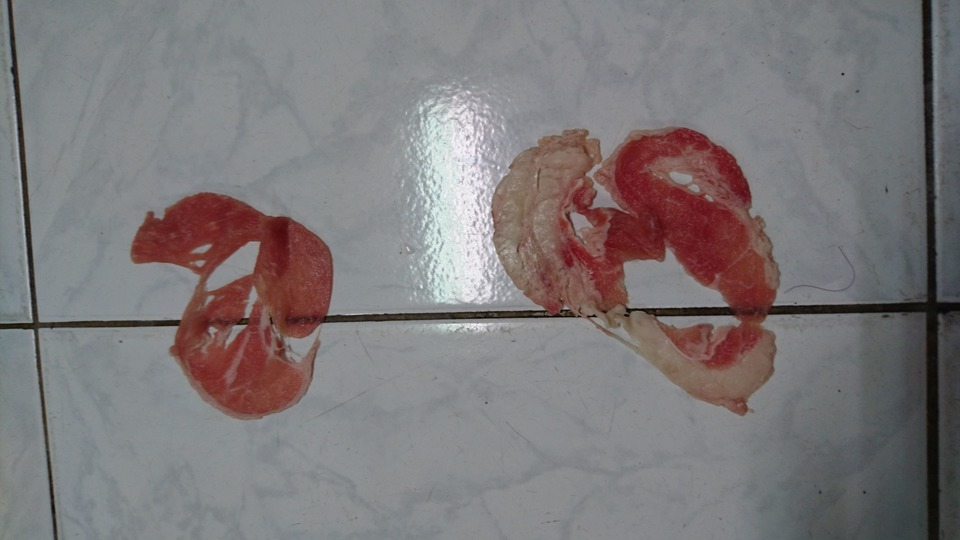restructured meat: (490, 112, 782, 422), (132, 188, 335, 418)
